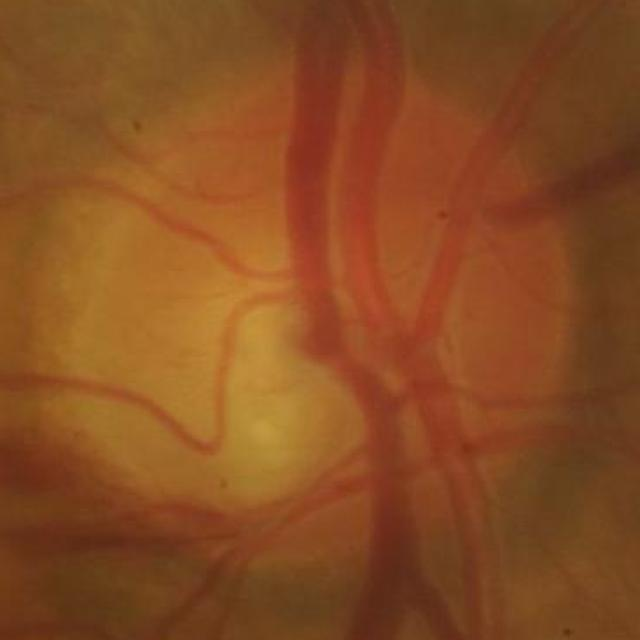OC: (170, 291, 362, 504)
OD: (25, 54, 573, 558)
